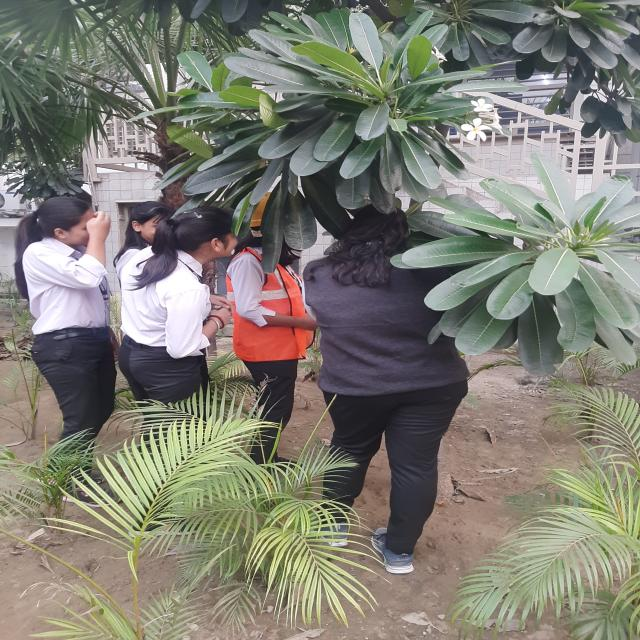unsafe: (309, 200, 480, 558), (2, 186, 122, 502), (138, 204, 238, 436), (234, 193, 309, 460)
